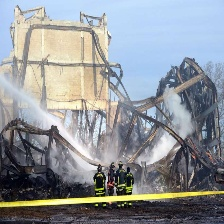smoke: (136, 88, 195, 164)
